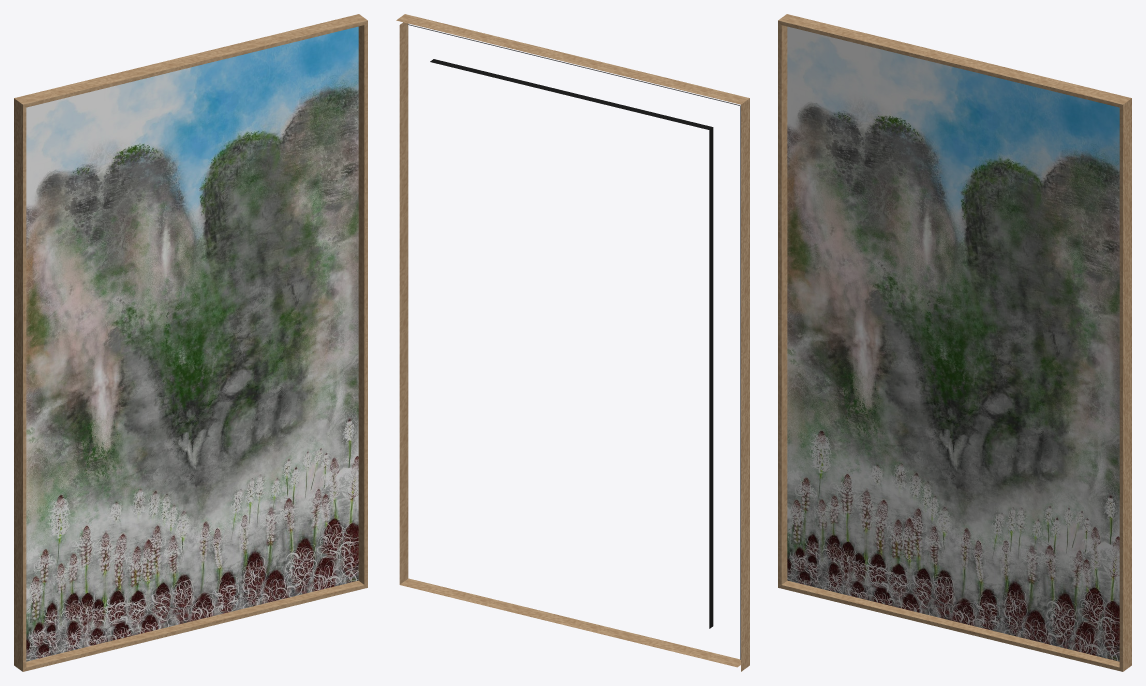
File: os029_grand_caisse-chene.glb
3 views of the same model, side by side, from view 1: azimuth 30°, elevation 25°; view 2: azimuth 150°, elevation 25°; view 3: azimuth 330°, elevation 25° (orthographic).
Visible parts, largest first — view 1: os029_grand_caisse-chene; view 2: os029_grand_caisse-chene; view 3: os029_grand_caisse-chene.
Boxes of the visible parts, box(x1,y1,x2,y2) form: os029_grand_caisse-chene: box(14, 14, 367, 671); os029_grand_caisse-chene: box(396, 14, 749, 671); os029_grand_caisse-chene: box(778, 14, 1131, 671).
Size of the model in its own units: 0.7817 by 1.23 by 0.035.
Materials: 4 (2 with a texture image).
